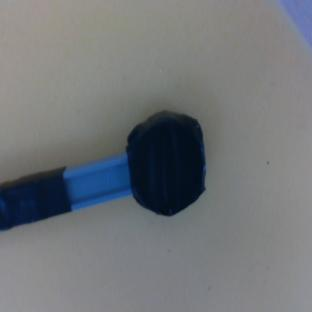part_3_bad: (0, 107, 210, 230)
